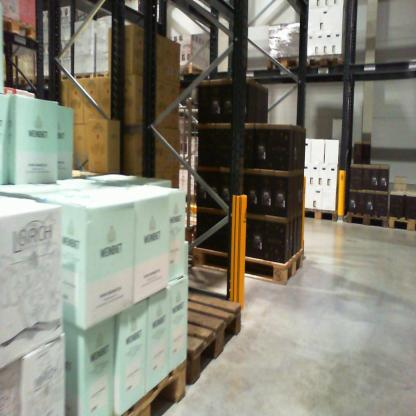pallet: (178, 278, 245, 393), (188, 242, 303, 293), (115, 349, 198, 415), (2, 9, 46, 47), (300, 199, 345, 226), (343, 207, 390, 232), (302, 52, 350, 73), (265, 52, 304, 73), (172, 63, 203, 76), (387, 218, 415, 231), (70, 69, 96, 82), (53, 71, 71, 87), (17, 75, 36, 88), (1, 74, 17, 89), (96, 70, 113, 82), (36, 75, 54, 86)
